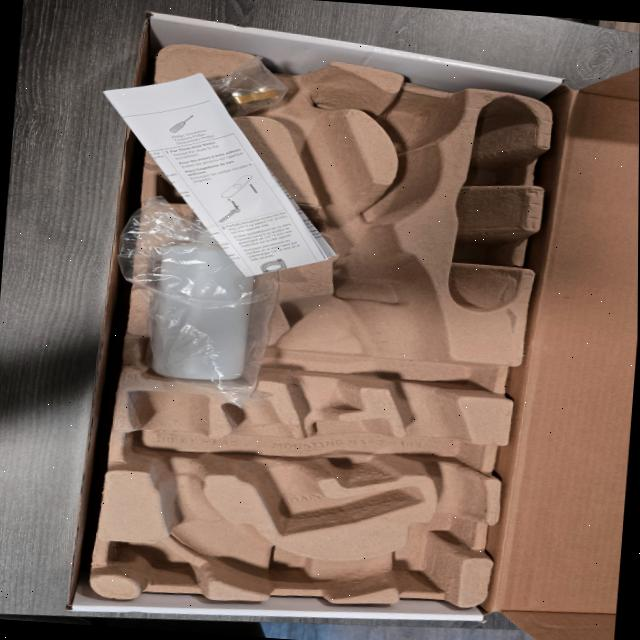1m: (132, 56, 488, 594)
2m: (223, 400, 418, 533)
3o: (149, 216, 266, 378)
4m: (450, 95, 538, 310)
5m: (387, 97, 439, 148)
6o: (163, 54, 294, 115)
7m: (155, 152, 263, 217)
8: (98, 71, 338, 277)
